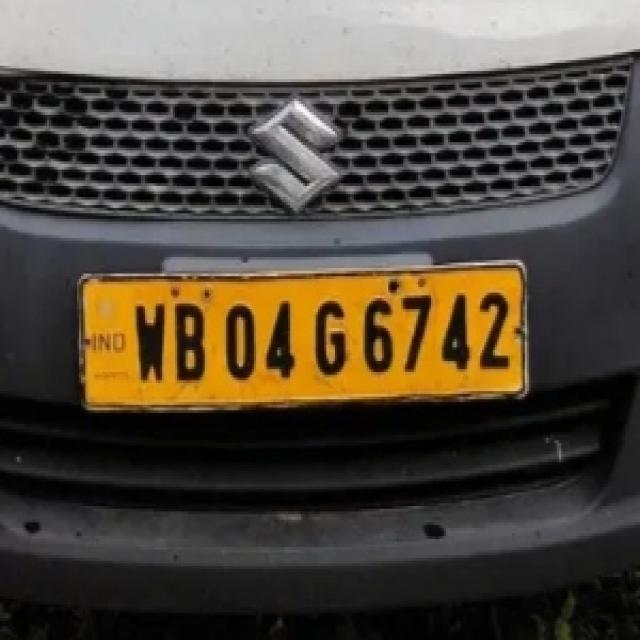0: (220, 294, 260, 392)
4: (258, 287, 300, 386), (435, 275, 475, 375)
6: (361, 286, 398, 384)
7: (395, 281, 441, 376)
B: (171, 292, 212, 392)
G: (306, 289, 353, 394)
W: (130, 275, 172, 395)
